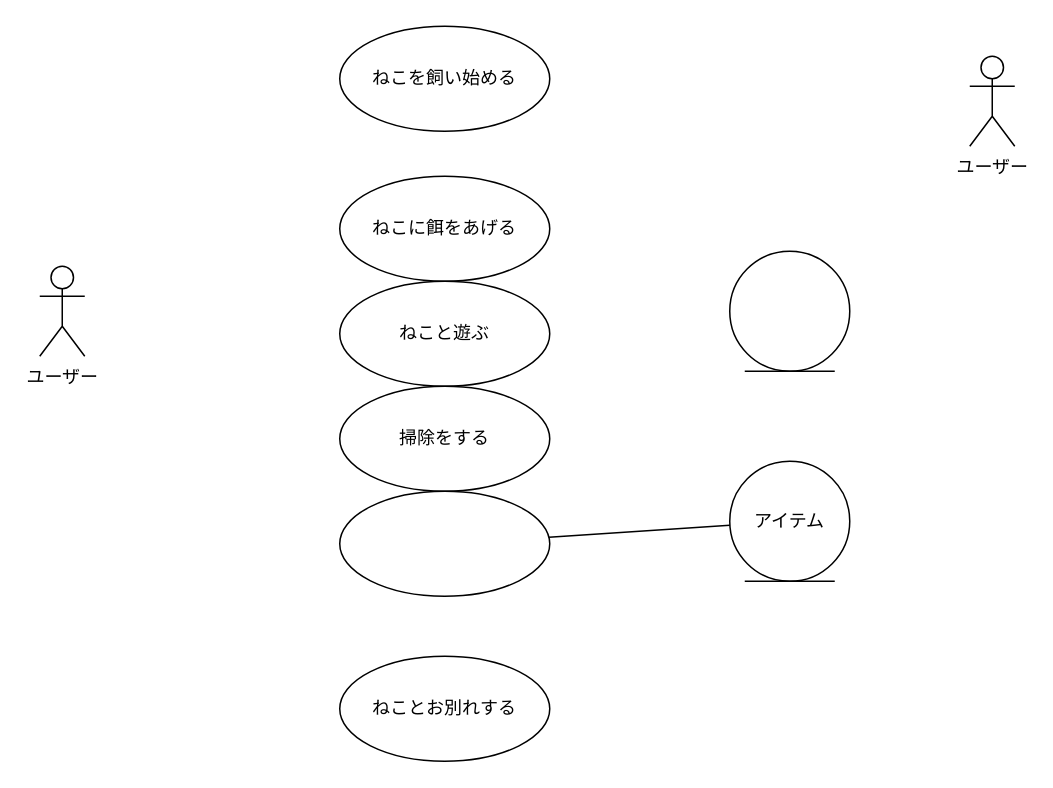
The diagram is 1053 pixels wide and 788 high, and some of its shapes have lost their labels. The centre of each missing label's shape, as x and y in pixels:
"ねこ" belongs at point 789,310.
"動物病院に連れていく" belongs at point 444,543.
